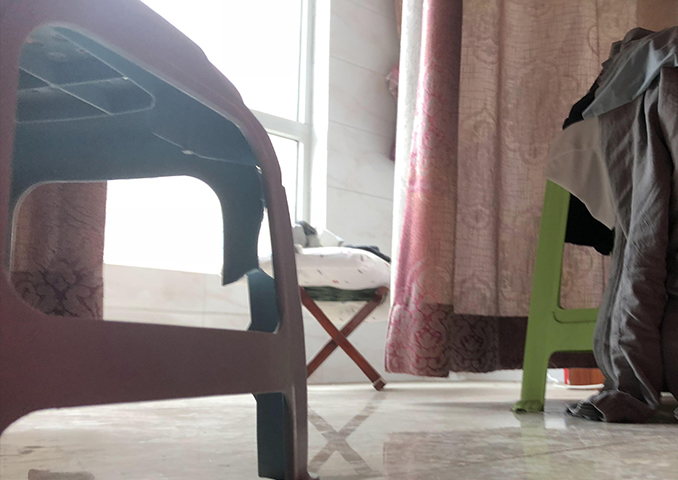curtain: (381, 1, 525, 378)
stool: (1, 1, 316, 480), (295, 284, 389, 393)
